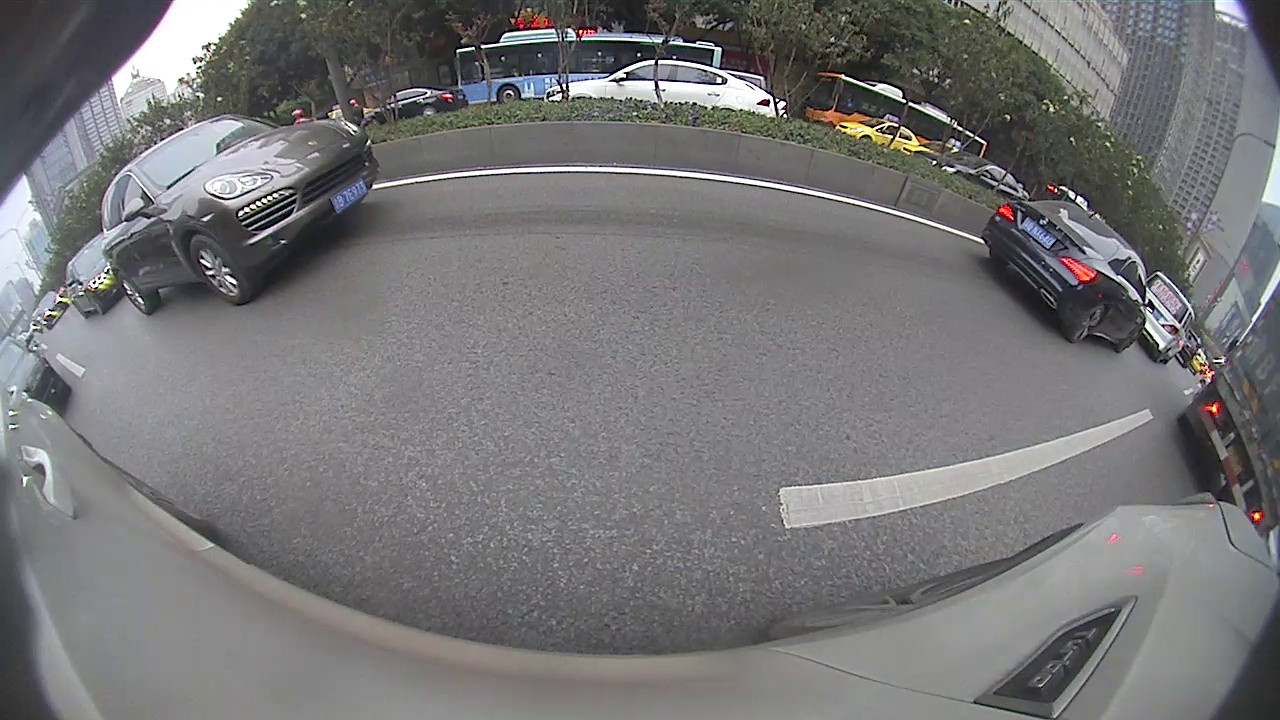car: (134, 166, 453, 352), (466, 146, 556, 213), (594, 143, 648, 194), (662, 155, 709, 191), (541, 159, 583, 192)
front: (426, 204, 450, 243)
person: (819, 141, 834, 198), (785, 146, 796, 185)
rear: (251, 253, 313, 323)
